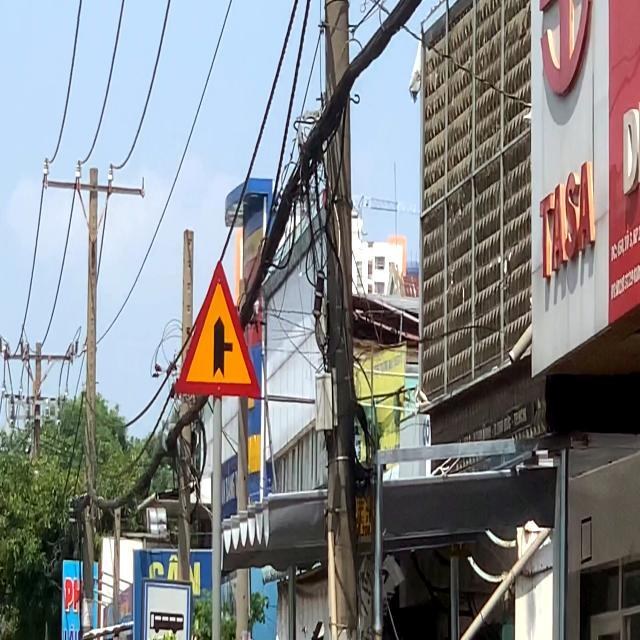Giao nhau voi duong khong uu tien ben phai: (168, 254, 264, 404)
